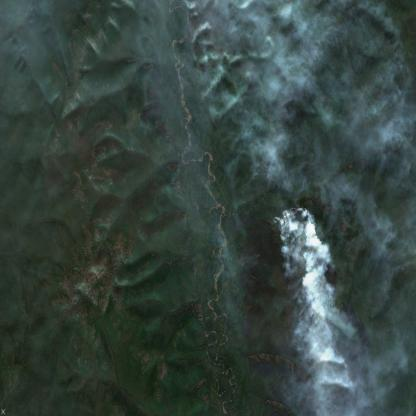fire: (273, 202, 334, 303)
